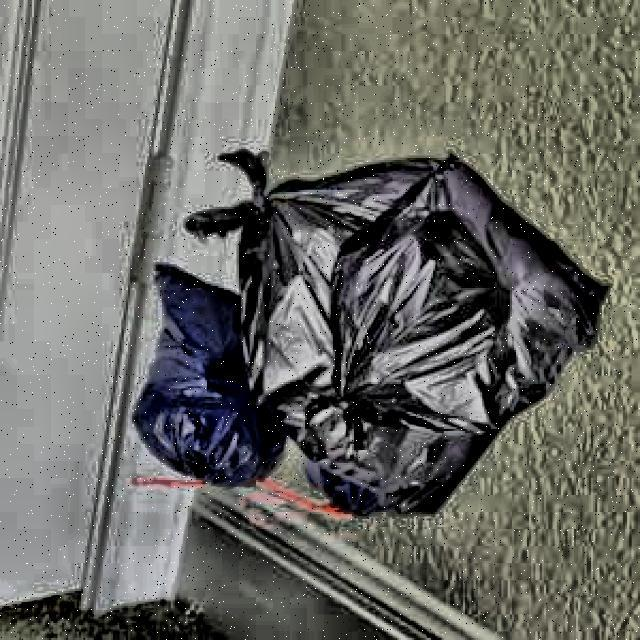Trashbag: (295, 147, 612, 447), (123, 259, 290, 486)
